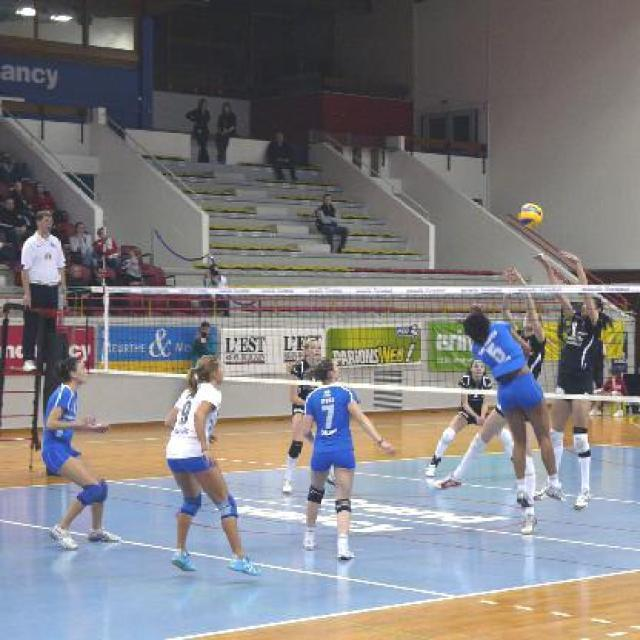volleyball: (516, 203, 545, 229)
